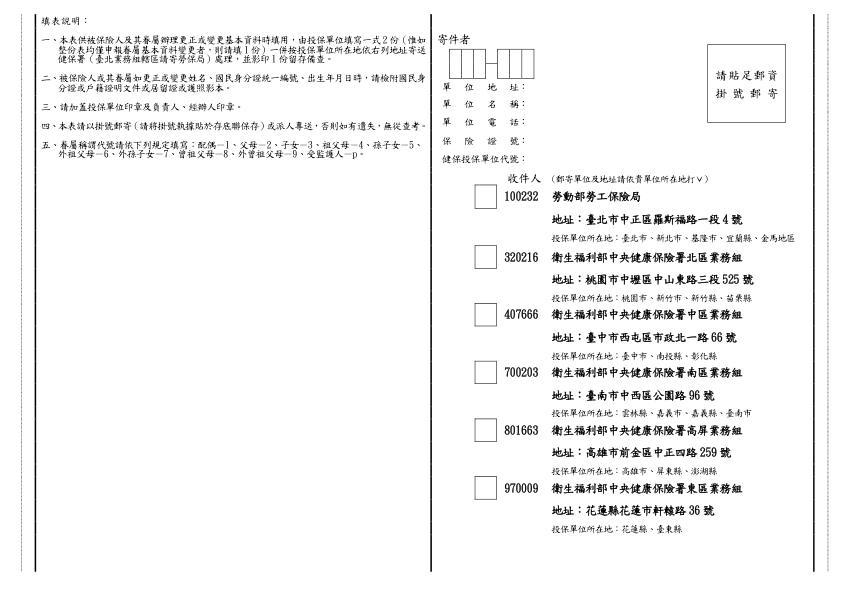check_box: (469, 242, 499, 272), (472, 182, 500, 212), (471, 358, 499, 388), (469, 416, 499, 444), (471, 298, 498, 329), (471, 473, 499, 502)
table: (447, 47, 538, 79)
text: (504, 189, 798, 246), (503, 249, 765, 305), (501, 362, 760, 418), (502, 479, 748, 536), (502, 421, 752, 477), (502, 306, 754, 361), (40, 33, 426, 64), (39, 72, 428, 96), (39, 138, 426, 162), (39, 119, 429, 133), (503, 170, 712, 186), (39, 100, 242, 115), (712, 63, 782, 104), (440, 96, 527, 111), (441, 113, 527, 128), (440, 81, 529, 94), (441, 152, 527, 165), (441, 134, 529, 146), (39, 11, 89, 27), (436, 30, 474, 46)
